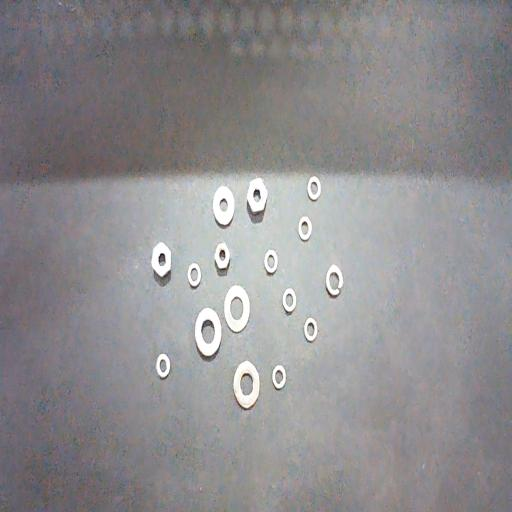nut: (246, 178, 268, 215), (151, 241, 172, 279), (214, 242, 231, 270)
washer: (194, 307, 222, 357), (233, 360, 260, 408), (224, 285, 250, 333), (212, 186, 235, 227), (326, 265, 343, 297), (297, 216, 312, 242), (307, 176, 322, 202), (264, 248, 278, 274), (272, 364, 286, 390), (282, 288, 296, 313), (156, 353, 170, 378), (188, 262, 201, 288), (304, 317, 317, 342)
